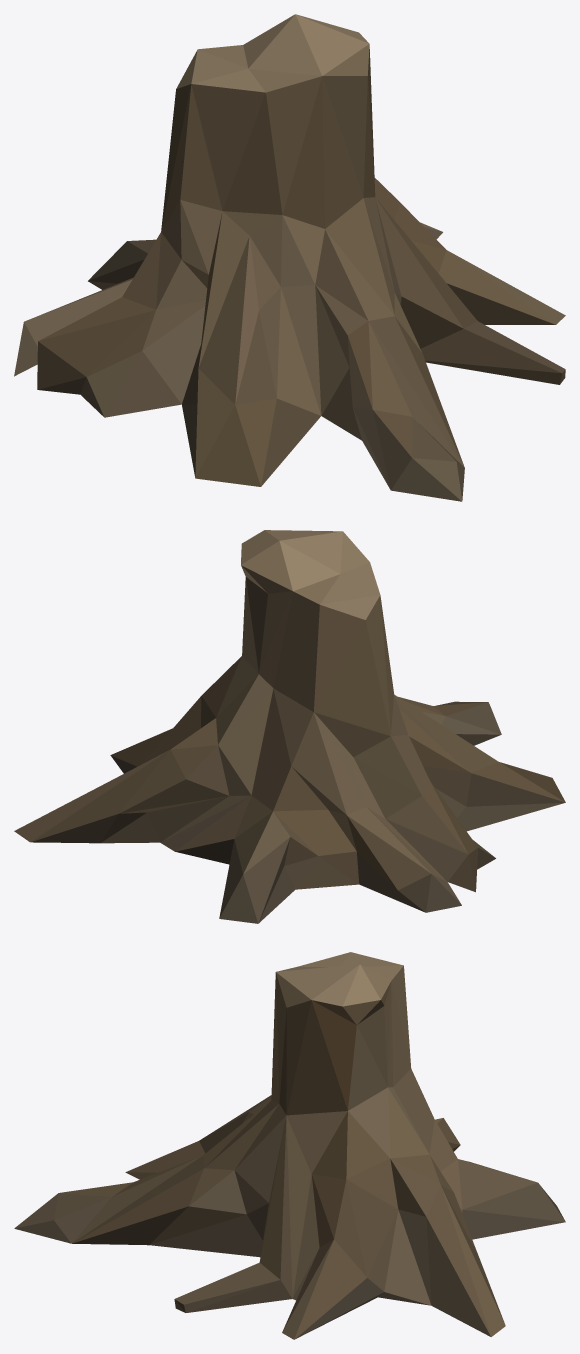
Rendered from Stump_A.fbx.
3 renders of one model, top to bottom at view 1: azimuth 30°, elevation 25°; view 2: azimuth 150°, elevation 25°; view 3: azimuth 270°, elevation 25°, orthographic. The views are drawn at different scales.
Parts seen in each view (by area): view 1: Stump_A; view 2: Stump_A; view 3: Stump_A.
Boxes of the visible parts, x1,y1,x2,y2 form: Stump_A: (14, 14, 565, 501); Stump_A: (14, 530, 565, 923); Stump_A: (14, 952, 565, 1339).
Bounding box in the file's own units: 224 × 148 × 264.
